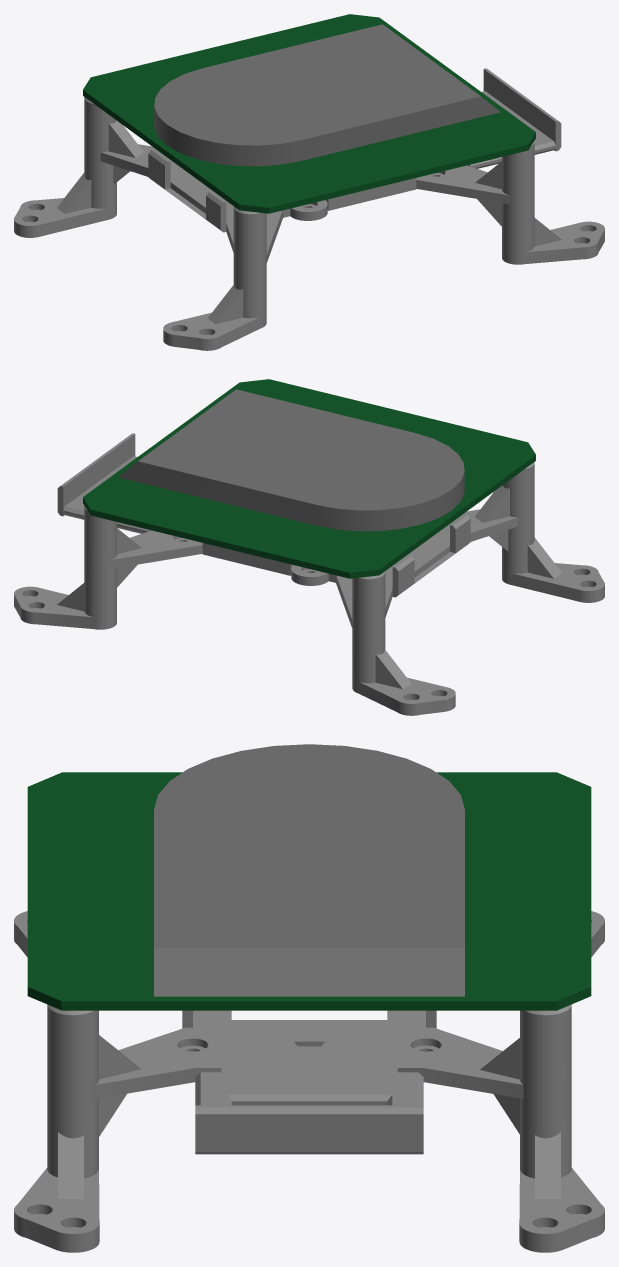
File: tarot_t650_nuc.dae
3 views of the same model, one above another, from view 1: azimuth 30°, elevation 25°; view 2: azimuth 150°, elevation 25°; view 3: azimuth 270°, elevation 25° (orthographic). The views are drawn at different scales.
Visible parts, largest first — view 1: Circle001; view 2: Circle001; view 3: Circle001.
Boxes of the visible parts, <box> form: Circle001: <box>14,14,604,350</box>; Circle001: <box>14,379,604,715</box>; Circle001: <box>14,744,604,1252</box>.
Bounding box in the file's own units: 154 × 114 × 48.99.
Materials: 3 (3 with a texture image).
